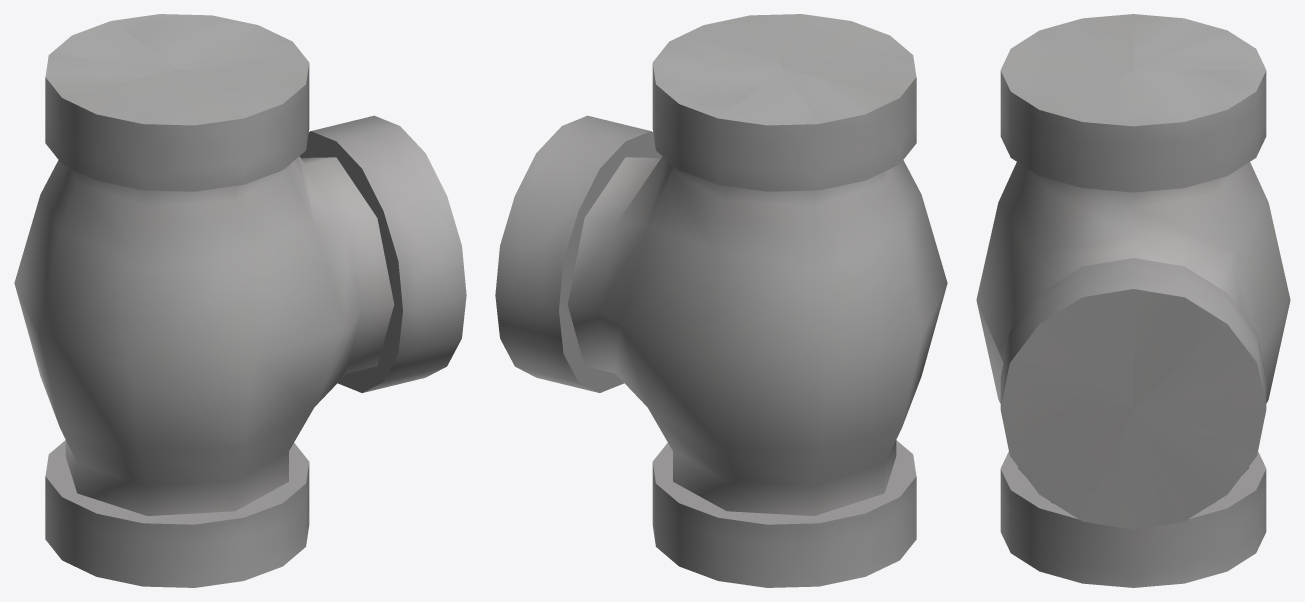
Rendered from Pipe_S3.fbx.
3 renders of one model, left to right at view 1: azimuth 30°, elevation 25°; view 2: azimuth 150°, elevation 25°; view 3: azimuth 270°, elevation 25°, orthographic.
Visible parts, largest first — view 1: Mat_Pipe_01; view 2: Mat_Pipe_01; view 3: Mat_Pipe_01.
Boxes of the visible parts, x1,y1,x2,y2 form: Mat_Pipe_01: (14,14,466,587); Mat_Pipe_01: (495,14,947,587); Mat_Pipe_01: (976,14,1290,587).
Size of the model in its own units: 0.5401 by 0.6617 by 0.4081.
1 material, 1 textured.
